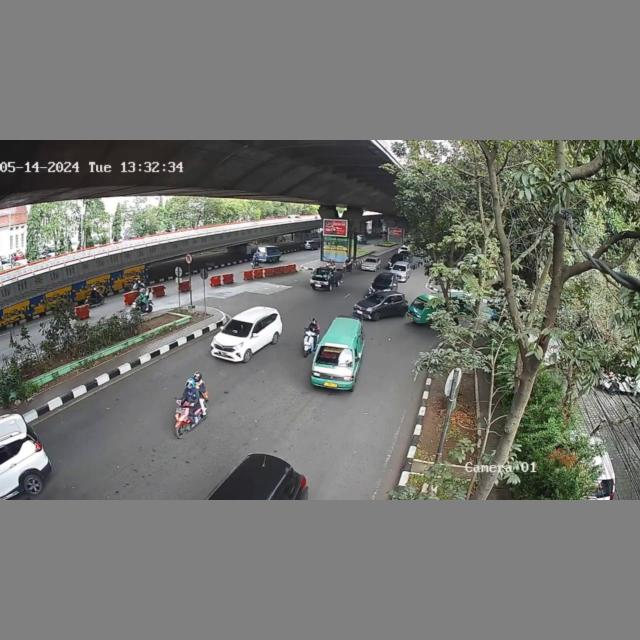windshield: (315, 344, 353, 367), (222, 319, 252, 338), (312, 268, 330, 280)
